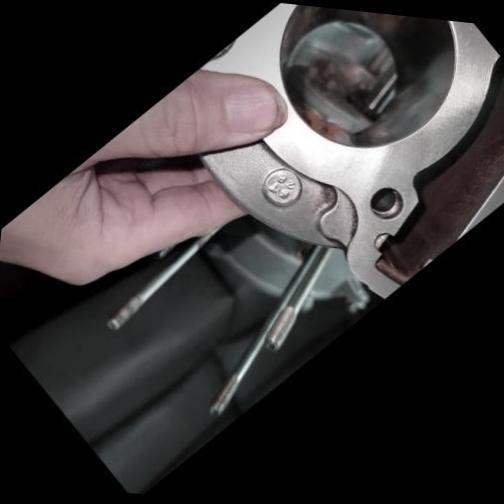hole: (360, 176, 415, 232)
